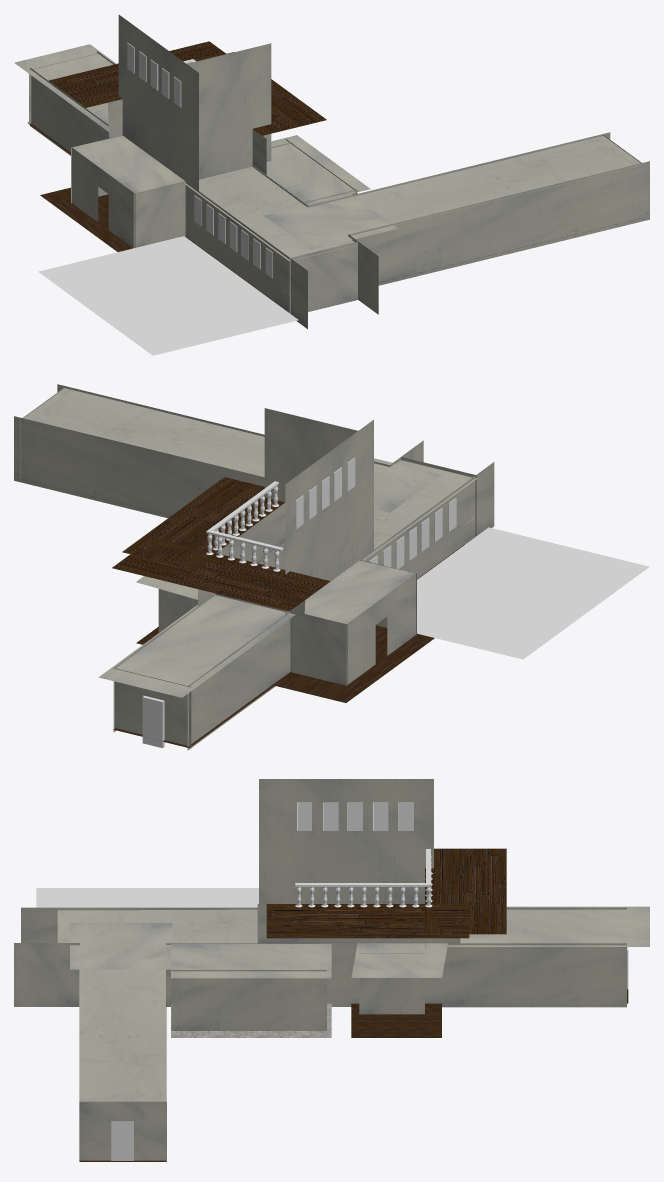
The model's file is ptv1.fbx.
3 renders of one model, top to bottom at view 1: azimuth 30°, elevation 25°; view 2: azimuth 150°, elevation 25°; view 3: azimuth 270°, elevation 25°, orthographic. The views are drawn at different scales.
Parts seen in each view (by area): view 1: Plane.030, Plane.002, Cube.012, Plane.028, Plane.029, Plane.004, Cube.013, Plane.034, Plane.018, Plane.019, Plane.011, Plane.003 (+12 smaller); view 2: Plane.030, Plane.001, Plane.028, Plane.032, Cube.012, Plane.025, Plane.003, Plane.024, Plane.004, Plane.029, Plane.019, Plane.031 (+15 smaller); view 3: Plane.028, Plane.005, Cube.012, Plane.022, Plane.024, Plane.032, Plane.025, Plane.018, Plane.034, Cube.013, Plane.030, Plane (+12 smaller).
Boxes of the visible parts, x1,y1,x2,y2 form: Plane.030: (38,236,298,355); Plane.002: (348,161,649,285); Cube.012: (355,136,641,225); Plane.028: (118,14,198,190); Plane.029: (187,43,271,179); Plane.004: (185,182,307,328); Cube.013: (184,167,357,261); Plane.034: (263,194,397,249); Plane.018: (253,135,370,204); Plane.019: (72,148,135,247); Plane.011: (289,241,357,313); Plane.003: (30,67,109,155); Plane.030: (417,527,649,659); Plane.001: (14,416,264,518); Plane.028: (285,419,373,614); Plane.032: (98,595,295,697); Cube.012: (23,388,264,476); Plane.025: (112,538,330,611); Plane.003: (187,611,290,750); Plane.024: (122,477,284,569); Plane.004: (360,462,494,578); Plane.029: (264,408,357,501); Plane.019: (346,573,416,685); Plane.031: (304,560,415,624); Plane.028: (259,779,433,903); Plane.005: (425,943,626,1007); Cube.012: (79,969,165,1101); Plane.022: (171,970,326,1030); Plane.024: (266,904,469,938); Plane.032: (447,906,649,946); Plane.025: (425,848,506,934); Plane.018: (171,944,331,978); Plane.034: (70,923,172,969); Cube.013: (57,909,257,943); Plane.030: (36,888,258,907); Plane: (79,1101,166,1161).
Size of the model in its own units: 31810 by 10542 by 31083.
9 materials, 6 textured.
